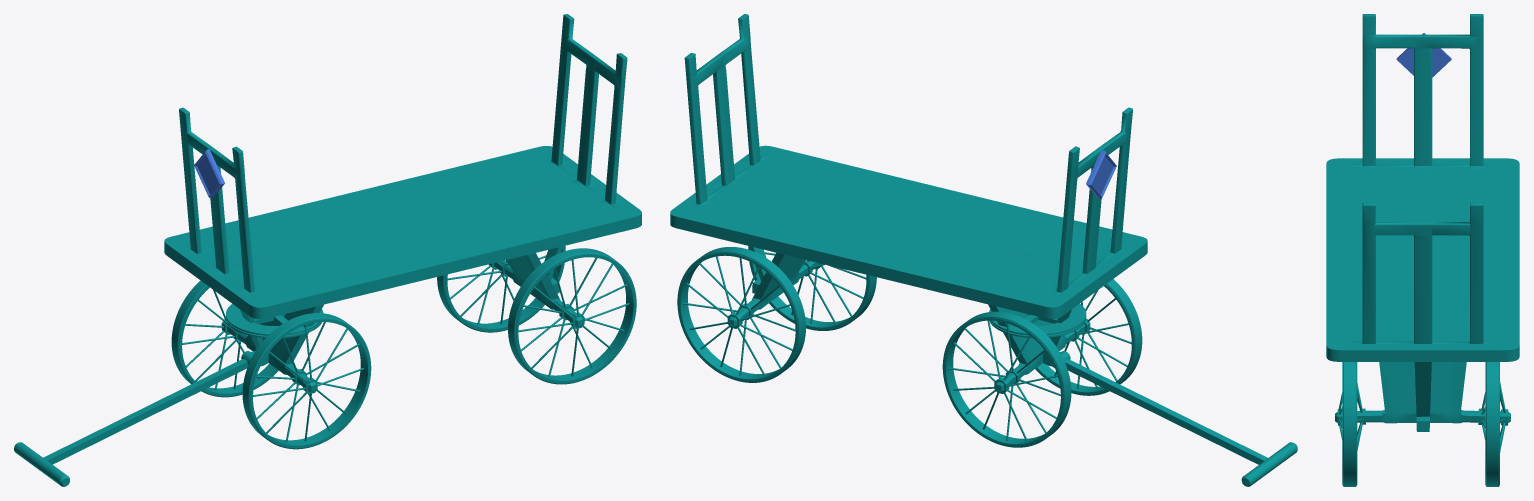
File: Cart.FBX
3 renders of one model, left to right at view 1: azimuth 30°, elevation 25°; view 2: azimuth 150°, elevation 25°; view 3: azimuth 270°, elevation 25°, orthographic.
Parts seen in each view (by area): view 1: Cart, Box002; view 2: Cart, Box002; view 3: Cart, Box002.
Part boxes in pixels (box(x1,y1,x2,y2)): Cart: box(14, 14, 641, 486); Box002: box(194, 149, 224, 198); Cart: box(670, 14, 1297, 486); Box002: box(1086, 150, 1116, 198); Cart: box(1326, 14, 1519, 486); Box002: box(1396, 33, 1451, 77).
Bounding box in the file's own units: 345 × 178 × 102.
